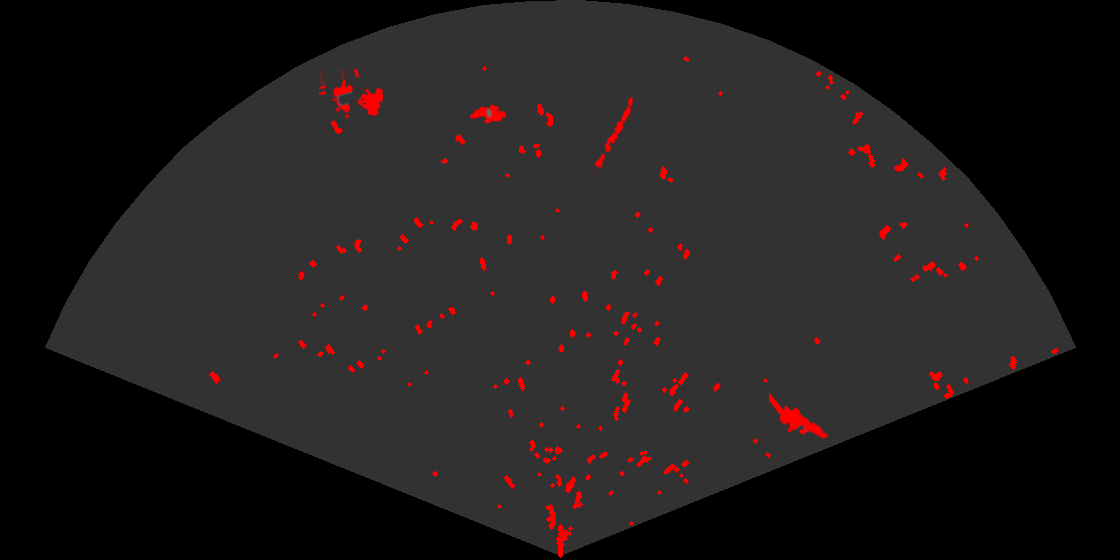AUV: (467, 103, 508, 125)
cage: (319, 69, 385, 120)
chain: (590, 95, 635, 176)
frogman: (769, 392, 829, 441)
